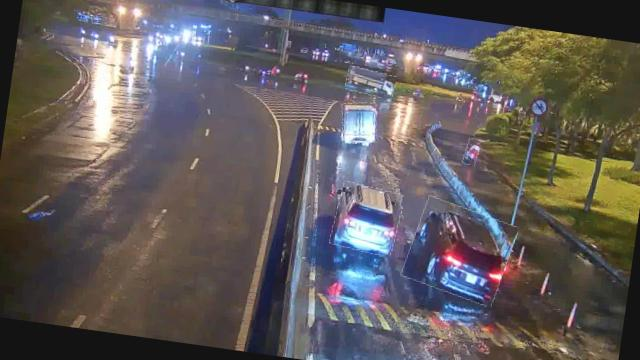Bike: (462, 138, 480, 166)
Car: (402, 198, 517, 304), (329, 182, 403, 256)
Truck: (338, 100, 379, 146), (344, 66, 396, 98)
